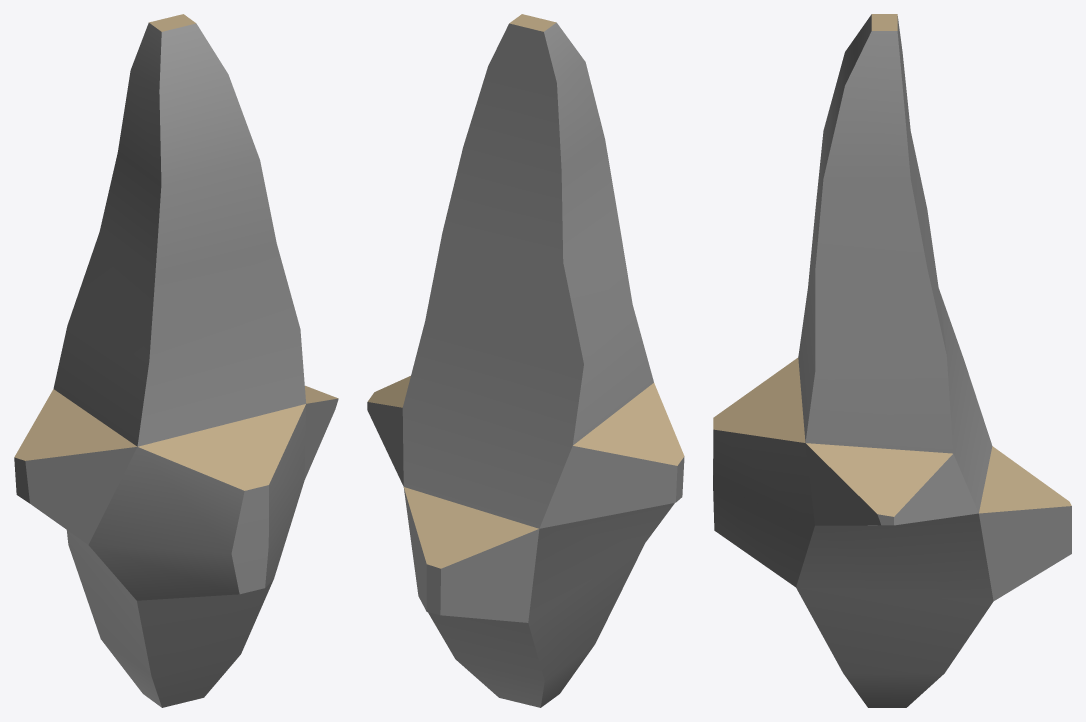
The model's file is rock17.glb.
The picture shows the model from 3 angles, left to right: view 1: azimuth 30°, elevation 25°; view 2: azimuth 150°, elevation 25°; view 3: azimuth 270°, elevation 25°; orthographic projection.
Parts seen in each view (by area): view 1: rock.004_0; view 2: rock.004_0; view 3: rock.004_0.
Boxes of the visible parts, bbox=[...] form: rock.004_0: bbox=[14, 14, 338, 707]; rock.004_0: bbox=[367, 14, 684, 707]; rock.004_0: bbox=[713, 14, 1071, 707].
Size of the model in its own units: 7.47 by 15.33 by 7.39.
